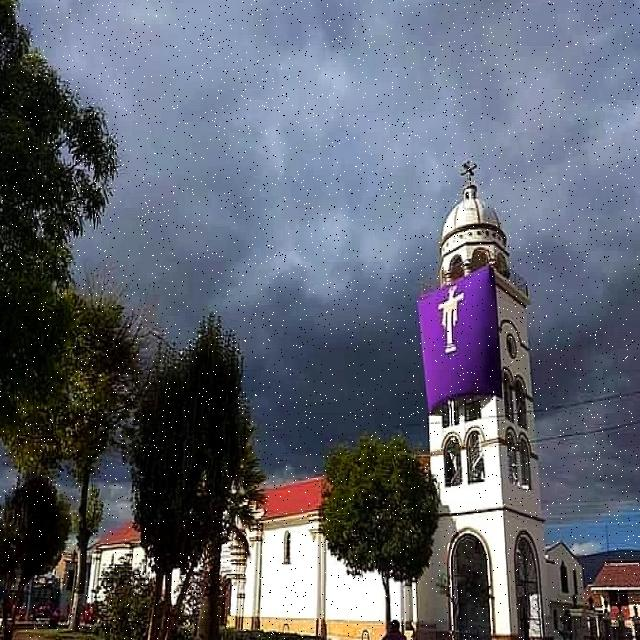CAMPANARIO: (414, 285, 543, 502)
CUPULA: (413, 181, 525, 267)
TORRES: (422, 158, 554, 640)
colonial-architecture-: (0, 0, 593, 640)
